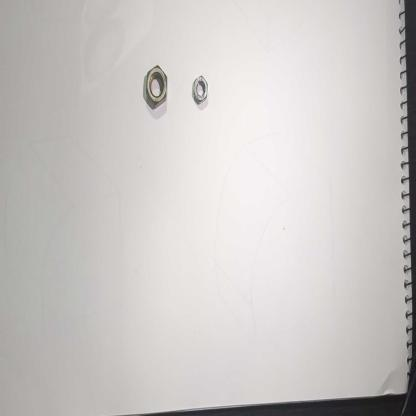NUTS: (134, 57, 170, 121), (191, 64, 217, 115)
